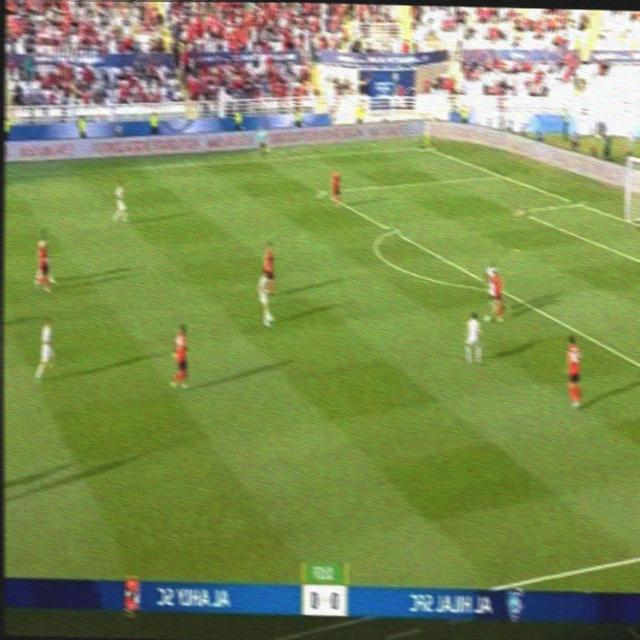bigarea_bottom_inner: (635, 354, 640, 381)
bigarea_top_inner: (315, 181, 330, 199)
bigarea_top_outter: (493, 167, 507, 181)
corner: (417, 137, 435, 151)
smallarea_top_inner: (512, 200, 528, 216)
smallarea_top_outter: (568, 193, 586, 210)
top_arc_area_intersection: (383, 220, 398, 237)
